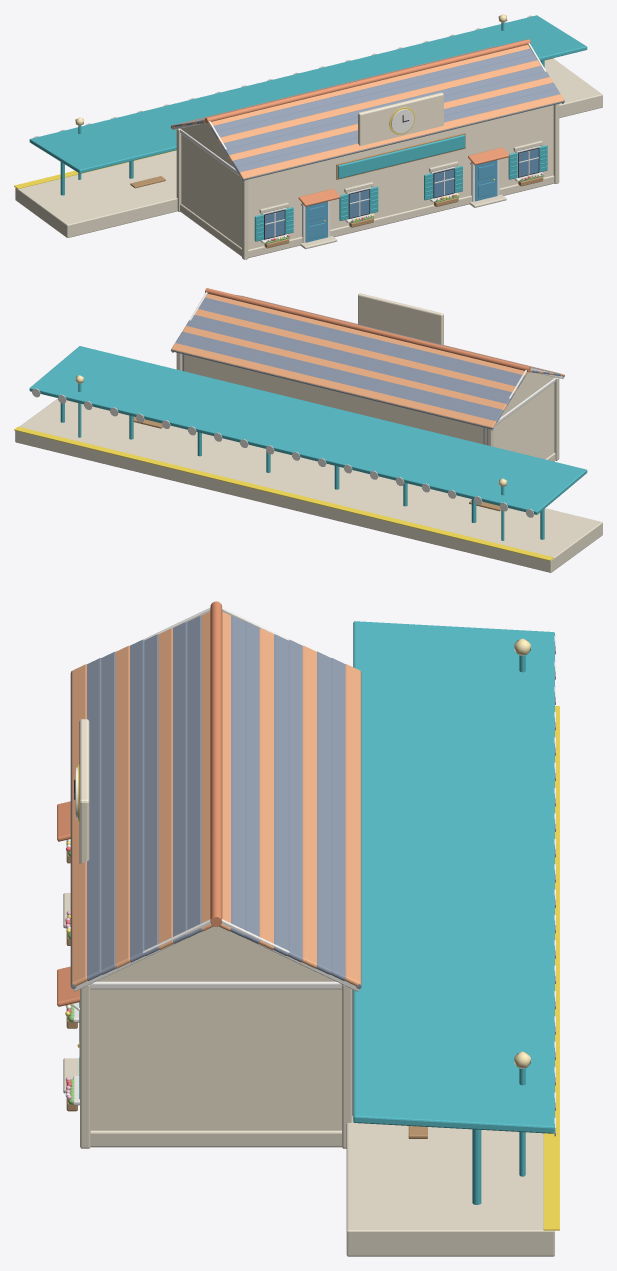
Rendered from station.fbx.
3 renders of one model, top to bottom at view 1: azimuth 30°, elevation 25°; view 2: azimuth 150°, elevation 25°; view 3: azimuth 270°, elevation 25°, orthographic. The views are drawn at different scales.
Visible parts, largest first — view 1: Visual; view 2: Visual; view 3: Visual.
Part boxes in pixels (bbox=[...]): Visual: bbox=[14, 14, 602, 259]; Visual: bbox=[14, 288, 602, 572]; Visual: bbox=[57, 601, 559, 1256].
Size of what is drawn, in the model's own units: 3800 by 806 by 1544.
